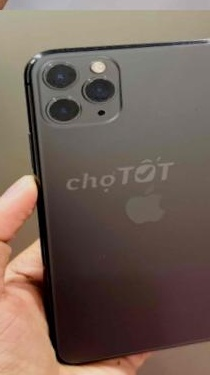scratch: (93, 242, 118, 270), (179, 34, 210, 54)
